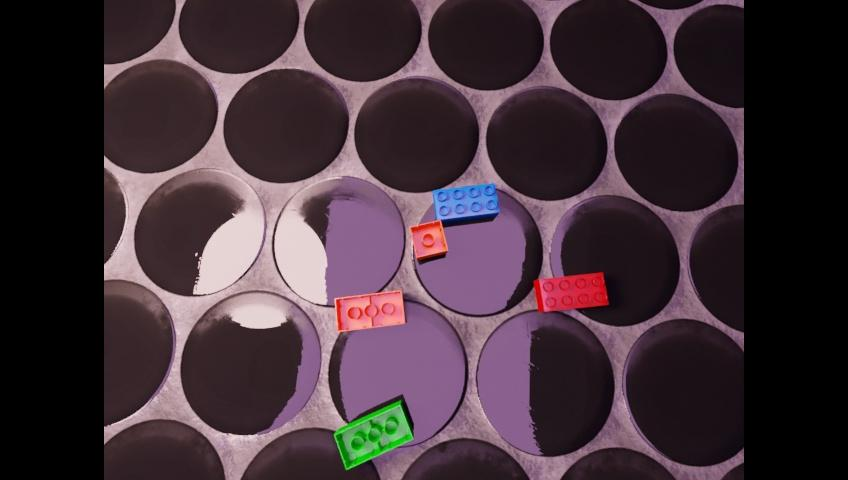2x2_orange: (409, 219, 447, 259)
4x2_blue: (432, 182, 498, 223)
4x2_green: (334, 399, 412, 469)
4x2_orange: (334, 289, 404, 331)
4x2_red: (533, 272, 607, 311)
